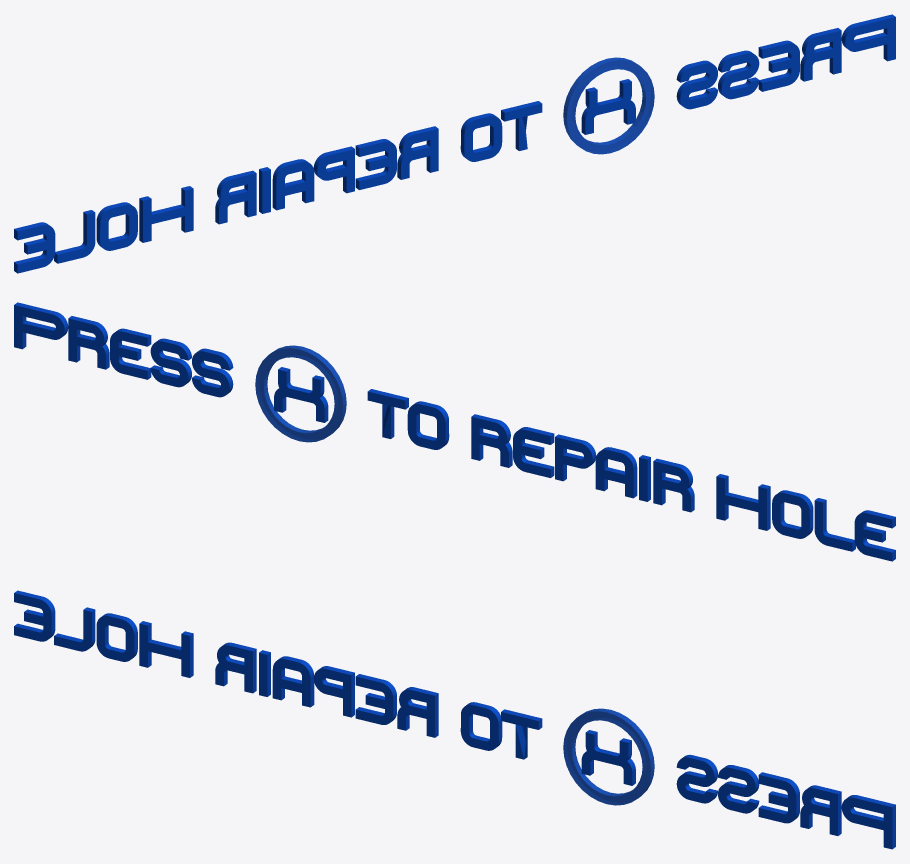
The model's file is prompt.obj.
3 renders of one model, top to bottom at view 1: azimuth 30°, elevation 25°; view 2: azimuth 150°, elevation 25°; view 3: azimuth 330°, elevation 25°, orthographic.
Parts seen in each view (by area): view 1: Text, Text.002; view 2: Text, Text.002; view 3: Text, Text.002.
Part boxes in pixels (x1,y1,x2,y2): Text: (14, 14, 895, 273); Text.002: (563, 57, 654, 154); Text: (14, 302, 895, 561); Text.002: (255, 345, 346, 442); Text: (14, 590, 895, 849); Text.002: (563, 708, 654, 805).
Bounding box in the file's own units: 14.06 × 1.41 × 0.1.
